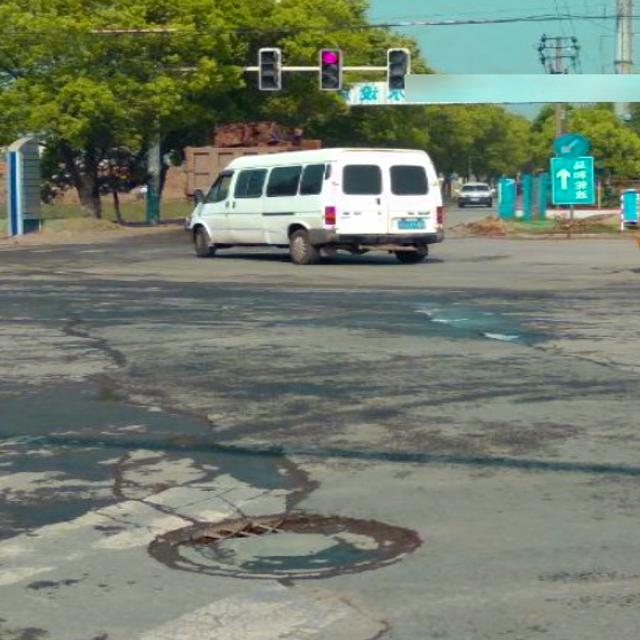broke: (147, 510, 422, 581)
